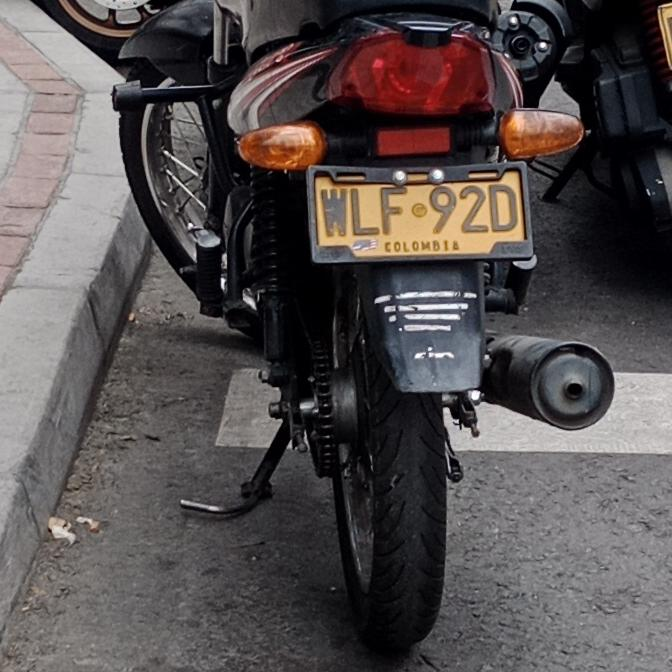plates: (308, 161, 538, 263)
